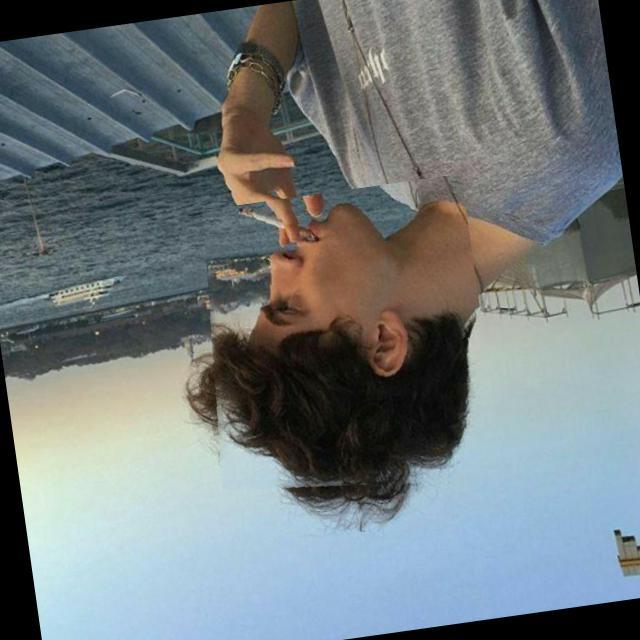cigarette: (175, 202, 308, 286)
